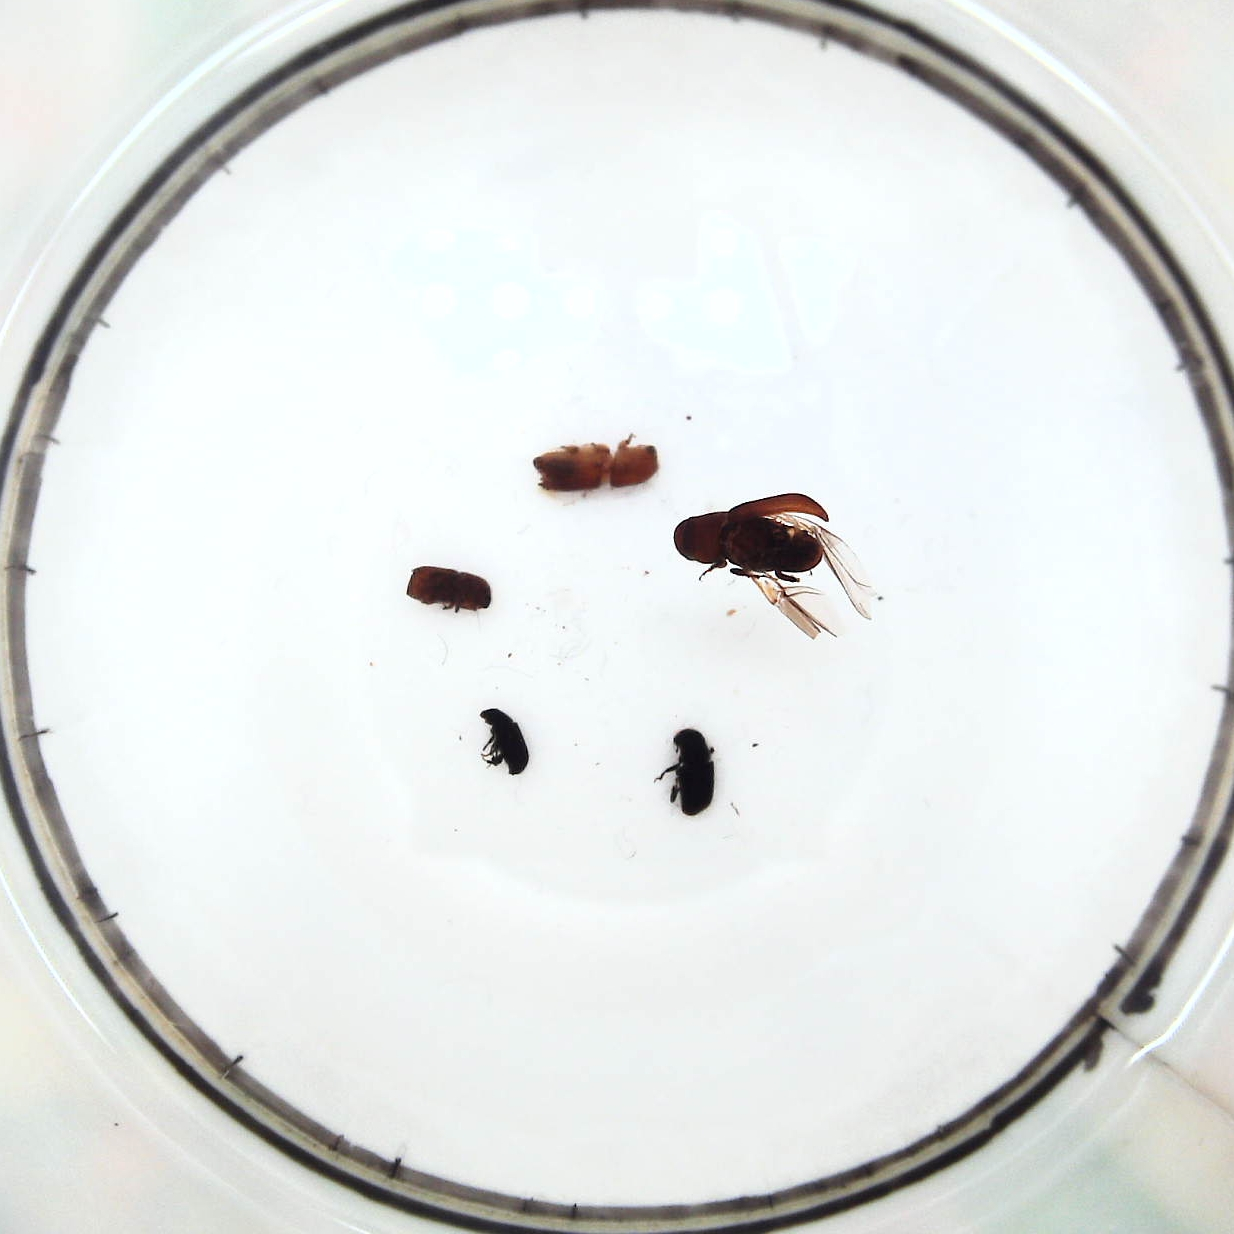Boerner: (533, 436, 660, 494)
Leconte: (671, 490, 868, 643)
Linnaeus: (405, 563, 495, 615)
armandi: (664, 727, 718, 815)
coleoptera: (477, 707, 529, 777)
